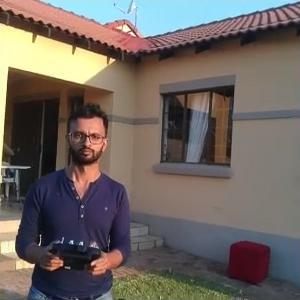follow: (9, 97, 132, 297)
